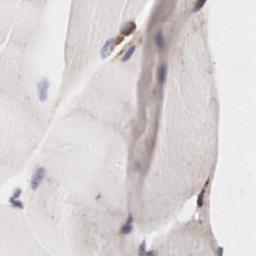nucleus: (31, 166, 46, 191), (37, 78, 50, 103), (122, 44, 135, 61), (154, 31, 165, 50), (10, 185, 23, 199), (157, 63, 166, 82), (194, 1, 209, 12), (138, 238, 147, 256), (120, 224, 134, 235), (10, 200, 25, 209), (125, 215, 135, 222), (216, 247, 223, 256)
positive_cell: (100, 36, 125, 59), (119, 43, 136, 61), (121, 20, 137, 34)
